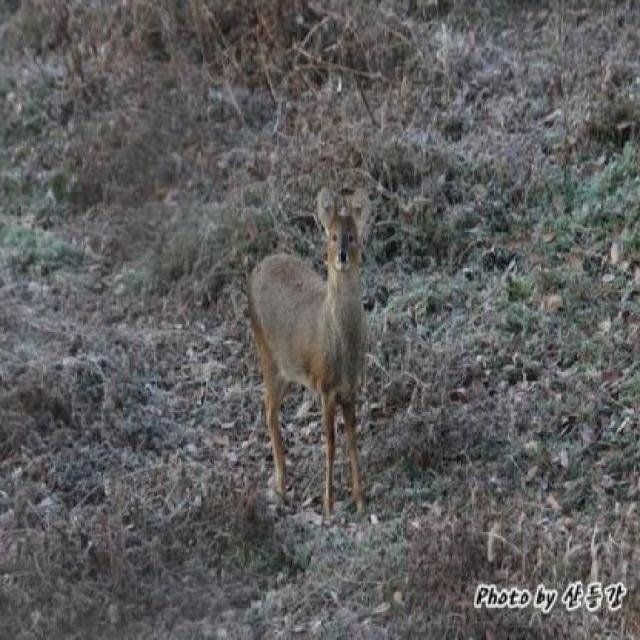deer: (242, 177, 382, 531)
